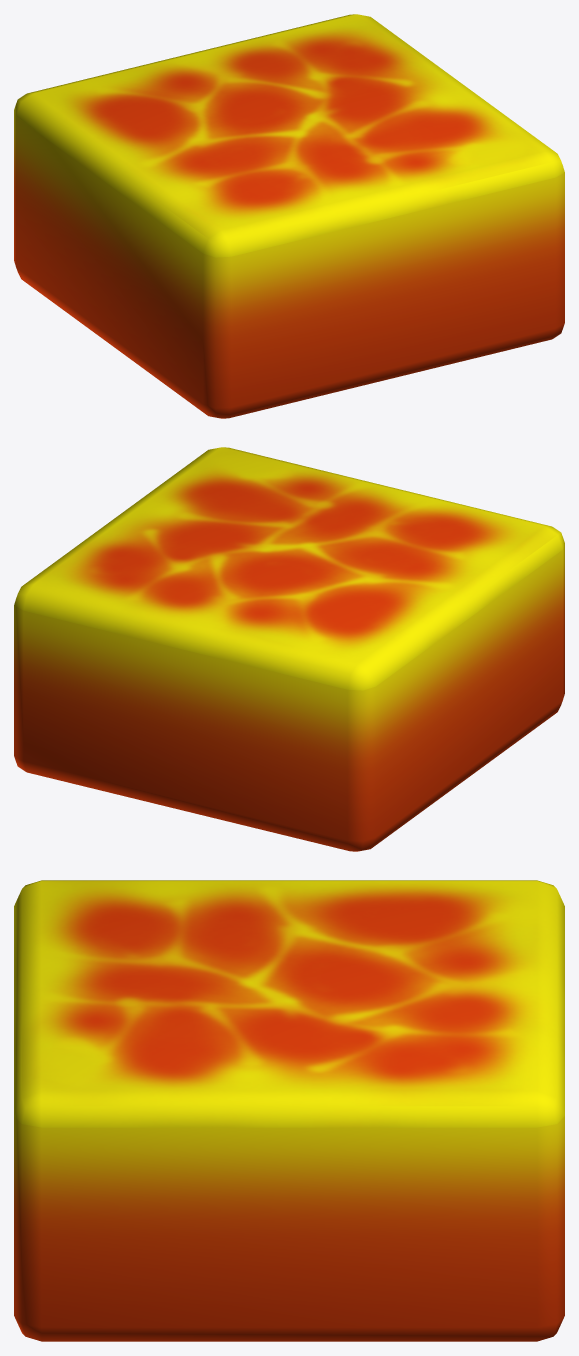
The model's file is 3D_Tile_Lava_01A.fbx.
3 renders of one model, top to bottom at view 1: azimuth 30°, elevation 25°; view 2: azimuth 150°, elevation 25°; view 3: azimuth 270°, elevation 25°, orthographic. The views are drawn at different scales.
Visible parts, largest first — view 1: 3D_Tile_Lava_01A; view 2: 3D_Tile_Lava_01A; view 3: 3D_Tile_Lava_01A.
Boxes of the visible parts, x1,y1,x2,y2 form: 3D_Tile_Lava_01A: [14, 14, 564, 418]; 3D_Tile_Lava_01A: [14, 447, 564, 851]; 3D_Tile_Lava_01A: [14, 880, 564, 1341].
Size of the model in its own units: 200 by 100 by 200.
